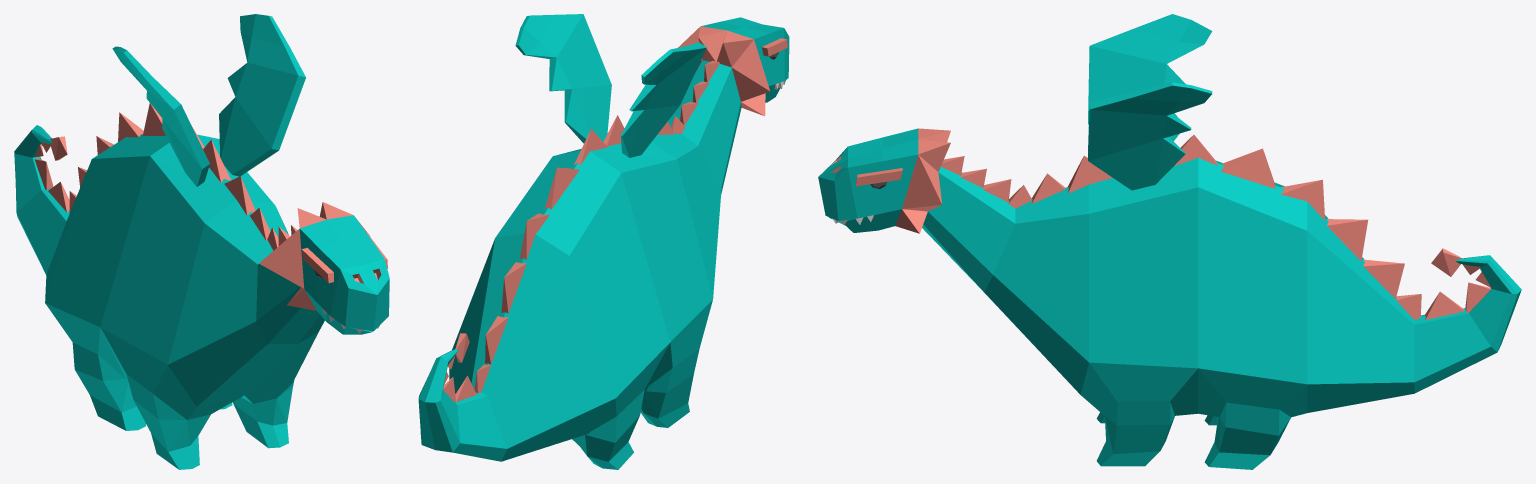
The model's file is Dragon_01.gltf.
The picture shows the model from 3 angles, left to right: view 1: azimuth 30°, elevation 25°; view 2: azimuth 150°, elevation 25°; view 3: azimuth 270°, elevation 25°; orthographic projection.
Visible parts, largest first — view 1: node-0; view 2: node-0; view 3: node-0.
Part boxes in pixels (<box>): node-0: <box>14,14,389,469</box>; node-0: <box>418,14,789,469</box>; node-0: <box>818,14,1521,469</box>.
Size of the model in its own units: 8.81 by 19.87 by 32.23.
